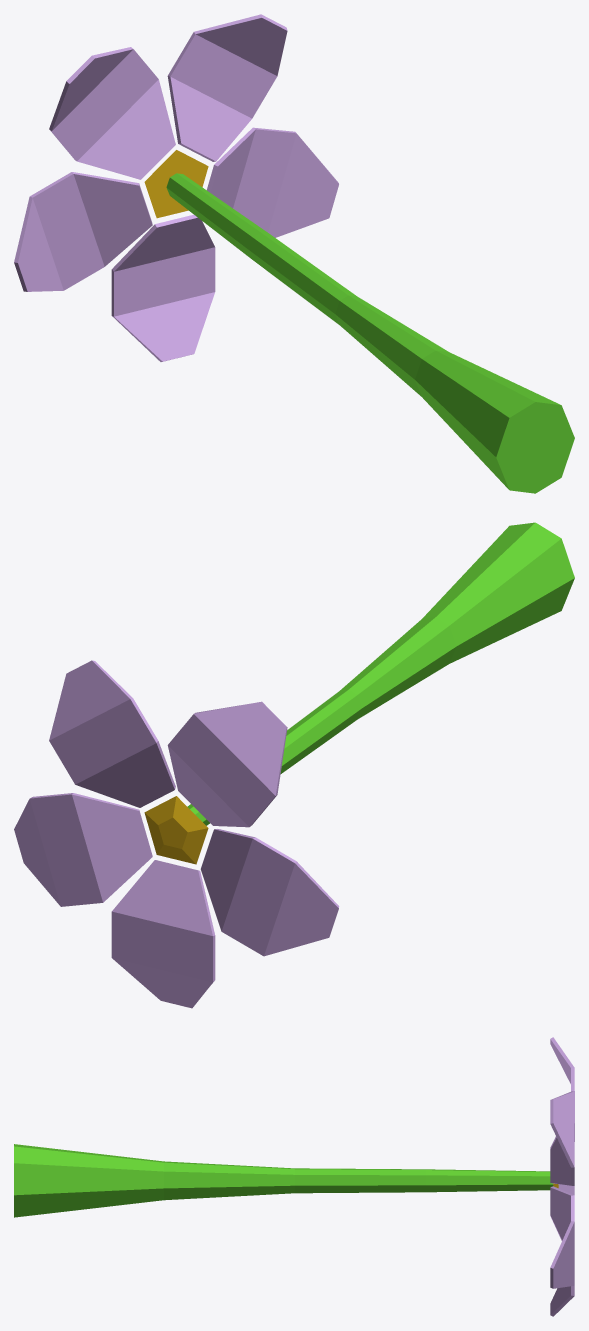
Rendered from Flower_001.fbx.
The picture shows the model from 3 angles, top to bottom: view 1: azimuth 30°, elevation 25°; view 2: azimuth 150°, elevation 25°; view 3: azimuth 270°, elevation 25°; orthographic projection. The views are drawn at different scales.
Visible parts, largest first — view 1: Flower_001; view 2: Flower_001; view 3: Flower_001.
Part boxes in pixels (bbox=[...]): Flower_001: bbox=[14, 14, 574, 493]; Flower_001: bbox=[14, 522, 574, 1008]; Flower_001: bbox=[14, 1037, 574, 1316].
Bounding box in the file's own units: 80.21 × 76.29 × 160.
